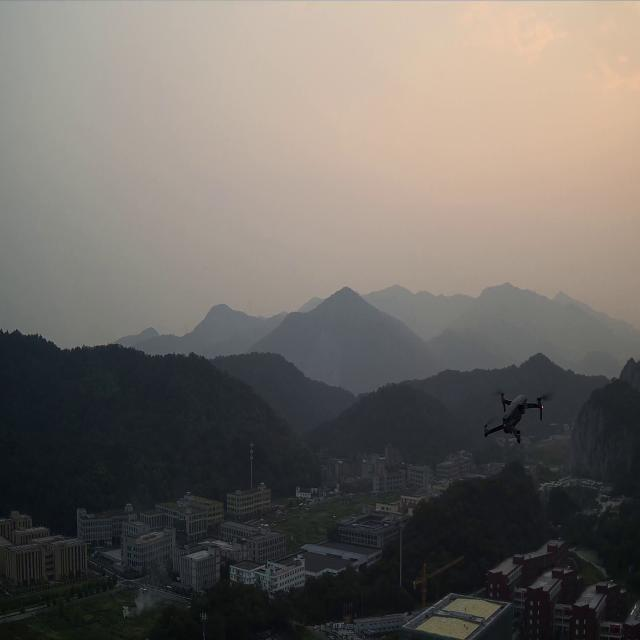UAV: (482, 388, 554, 446)
